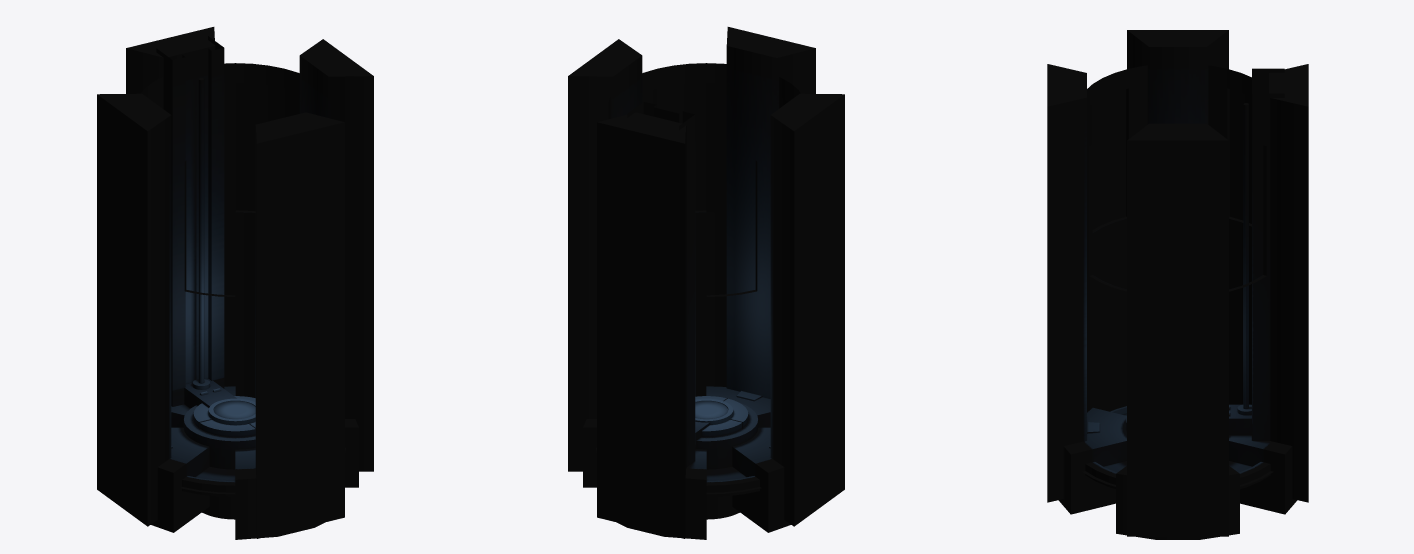
Rendered from engine.dae.
The picture shows the model from 3 angles, left to right: view 1: azimuth 30°, elevation 25°; view 2: azimuth 150°, elevation 25°; view 3: azimuth 270°, elevation 25°; orthographic projection.
Parts seen in each view (by area): view 1: engine; view 2: engine; view 3: engine.
Part boxes in pixels (x1=…): engine: x1=97, y1=27, x2=373, y2=539; engine: x1=568, y1=27, x2=844, y2=539; engine: x1=1047, y1=30, x2=1308, y2=539.
Size of the model in its own units: 200 by 210 by 200.
Materials: 1 (1 with a texture image).
